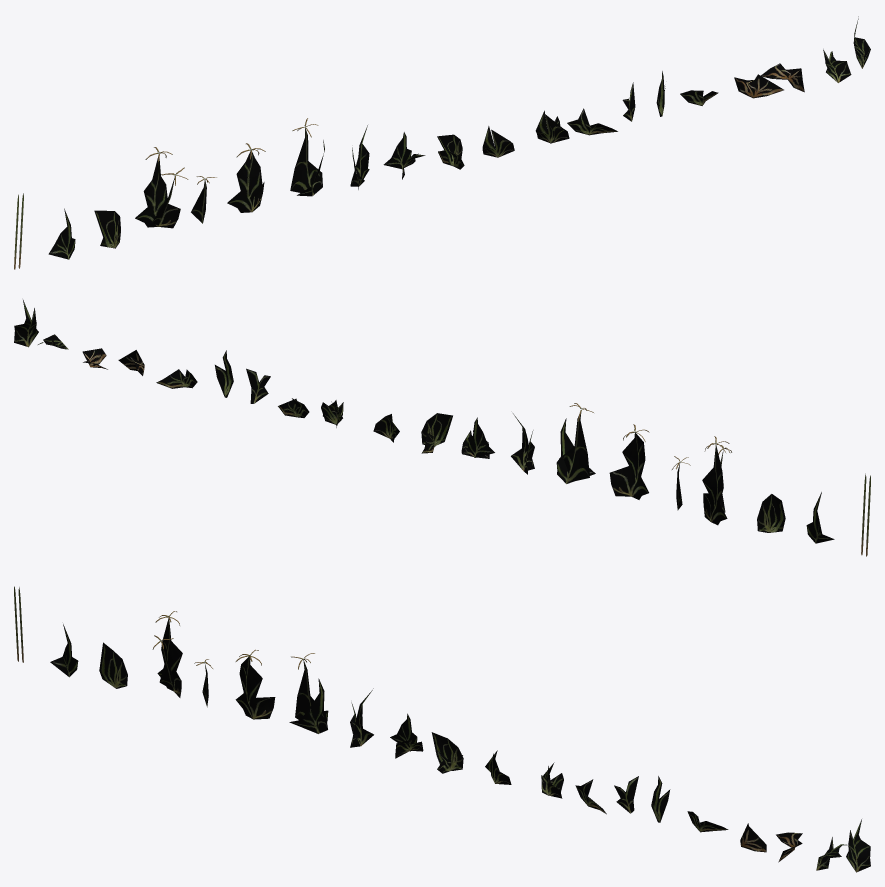
Rendered from grass_bermuda_01.glb.
3 renders of one model, top to bottom at view 1: azimuth 30°, elevation 25°; view 2: azimuth 150°, elevation 25°; view 3: azimuth 330°, elevation 25°, orthographic.
Parts seen in each view (by area): view 1: grass_bermuda_01_seedling_d, grass_bermuda_01_seedling_b, grass_bermuda_01_seedling_a, grass_bermuda_01_medium_b, grass_bermuda_01_dead_b, grass_bermuda_01_medium_c, grass_bermuda_01_small_c, grass_bermuda_01_small_d, grass_bermuda_01_medium_e, grass_bermuda_01_medium_d, grass_bermuda_01_dead_a, grass_bermuda_01_medium_f (+2 smaller); view 2: grass_bermuda_01_seedling_b, grass_bermuda_01_seedling_a, grass_bermuda_01_seedling_d, grass_bermuda_01_medium_b, grass_bermuda_01_medium_c, grass_bermuda_01_medium_e, grass_bermuda_01_medium_a, grass_bermuda_01_medium_f; view 3: grass_bermuda_01_seedling_a, grass_bermuda_01_seedling_b, grass_bermuda_01_seedling_d, grass_bermuda_01_medium_b, grass_bermuda_01_medium_c, grass_bermuda_01_medium_a, grass_bermuda_01_medium_e, grass_bermuda_01_medium_f.
Part boxes in pixels (x1,y1,x2,y2): grass_bermuda_01_seedling_d: (135,147,188,228); grass_bermuda_01_seedling_b: (227,143,265,212); grass_bermuda_01_seedling_a: (290,118,324,196); grass_bermuda_01_medium_b: (94,210,120,248); grass_bermuda_01_dead_b: (734,74,783,98); grass_bermuda_01_medium_c: (437,134,464,169); grass_bermuda_01_small_c: (535,110,569,143); grass_bermuda_01_small_d: (482,126,514,157); grass_bermuda_01_medium_e: (383,132,425,179); grass_bermuda_01_medium_d: (48,208,75,259); grass_bermuda_01_dead_a: (761,63,804,92); grass_bermuda_01_medium_f: (350,125,369,189); grass_bermuda_01_seedling_b: (609,424,649,499); grass_bermuda_01_seedling_a: (556,403,595,483); grass_bermuda_01_seedling_d: (702,436,731,525); grass_bermuda_01_medium_b: (757,494,785,532); grass_bermuda_01_medium_c: (421,413,452,453); grass_bermuda_01_medium_e: (461,417,494,458); grass_bermuda_01_medium_a: (14,300,38,347); grass_bermuda_01_medium_f: (511,413,534,474); grass_bermuda_01_seedling_a: (289,653,328,733); grass_bermuda_01_seedling_b: (235,649,275,719); grass_bermuda_01_seedling_d: (152,611,182,697); grass_bermuda_01_medium_b: (99,642,127,688); grass_bermuda_01_medium_c: (431,732,463,773); grass_bermuda_01_medium_a: (846,819,870,872); grass_bermuda_01_medium_e: (390,713,423,758); grass_bermuda_01_medium_f: (350,688,373,747).
Size of the model in its own units: 1.69 by 0.1618 by 0.0916.
1 material, 1 textured.
